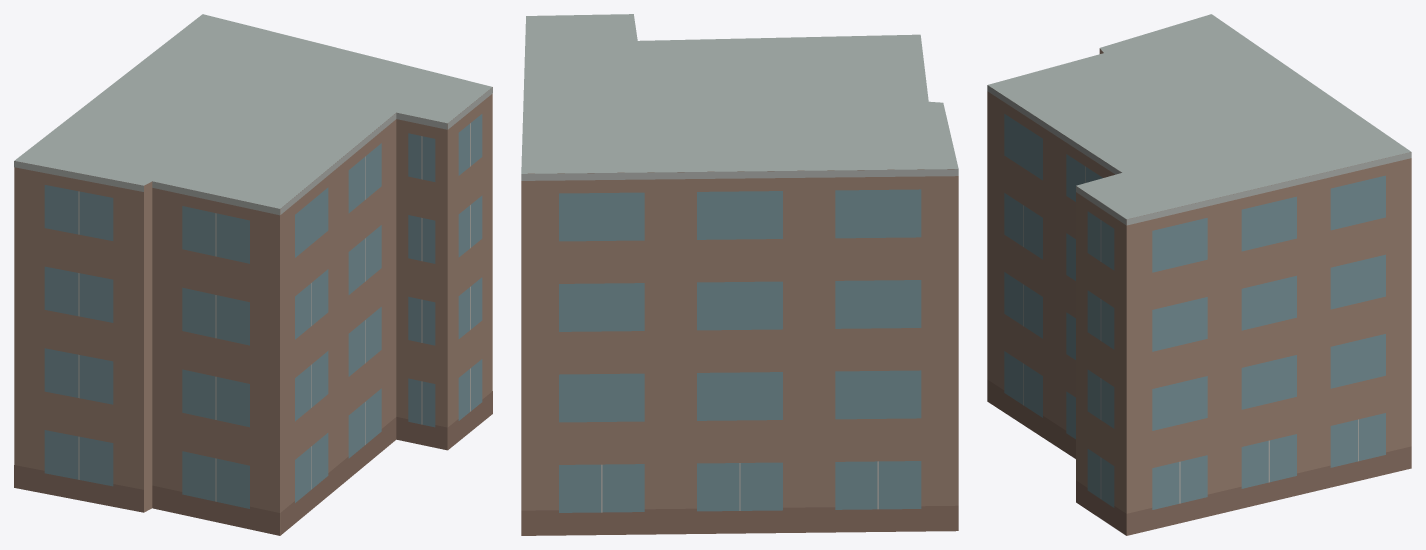
The model's file is survey-upis-32809282.glb.
The picture shows the model from 3 angles, left to right: view 1: azimuth 30°, elevation 25°; view 2: azimuth 150°, elevation 25°; view 3: azimuth 270°, elevation 25°; orthographic projection. The views are drawn at different scales.
Visible parts, largest first — view 1: survey-upis-32809282.tmp; view 2: survey-upis-32809282.tmp; view 3: survey-upis-32809282.tmp.
Boxes of the visible parts, box(x1,y1,x2,y2) form: survey-upis-32809282.tmp: box(14, 14, 492, 535); survey-upis-32809282.tmp: box(521, 14, 958, 535); survey-upis-32809282.tmp: box(987, 14, 1411, 535).
Size of the model in its own units: 17.26 by 12.4 by 15.07.
